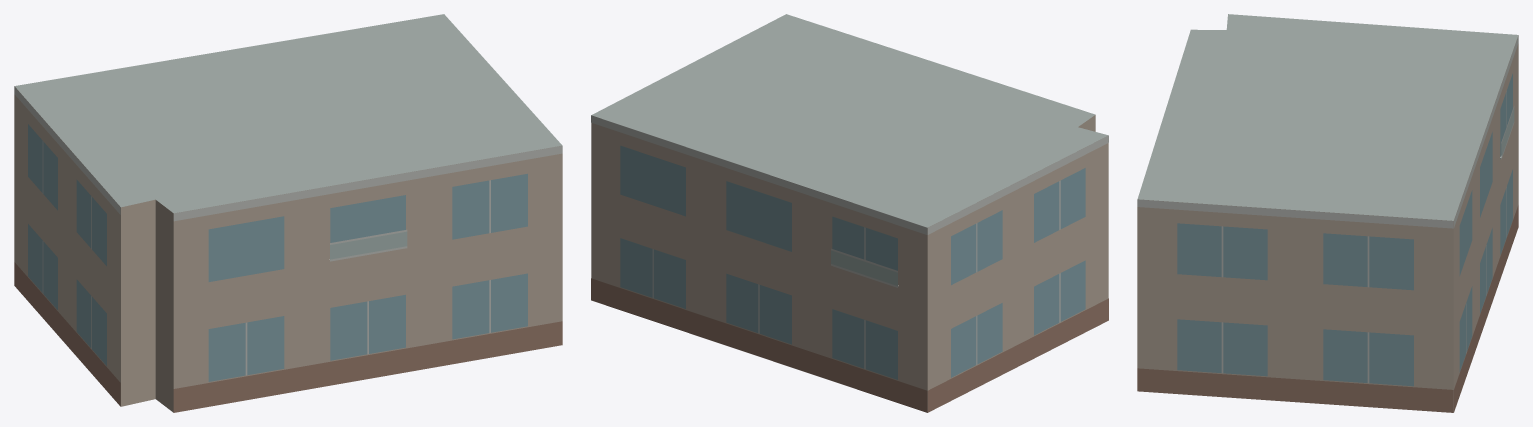
File: survey-upis-32669584.glb
3 views of the same model, side by side, from view 1: azimuth 30°, elevation 25°; view 2: azimuth 150°, elevation 25°; view 3: azimuth 270°, elevation 25° (orthographic). The views are drawn at different scales.
Visible parts, largest first — view 1: survey-upis-32669584.tmp; view 2: survey-upis-32669584.tmp; view 3: survey-upis-32669584.tmp.
Boxes of the visible parts, bbox=[...] form: survey-upis-32669584.tmp: bbox=[14, 14, 562, 412]; survey-upis-32669584.tmp: bbox=[591, 14, 1108, 412]; survey-upis-32669584.tmp: bbox=[1137, 14, 1518, 412].
Size of the model in its own units: 14.11 by 6.1 by 10.99.
